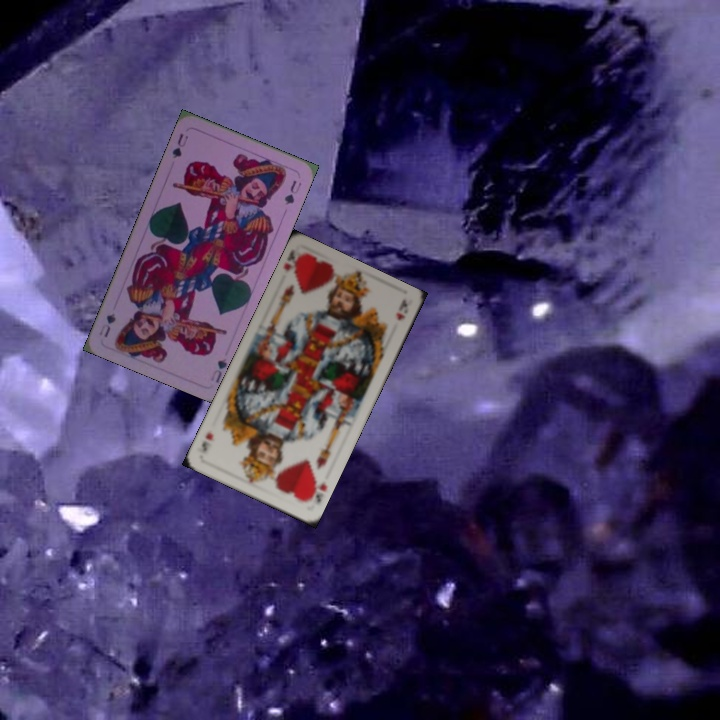GU: (168, 129, 191, 162), (206, 355, 230, 386)
HK: (279, 245, 299, 280), (308, 476, 330, 506)
